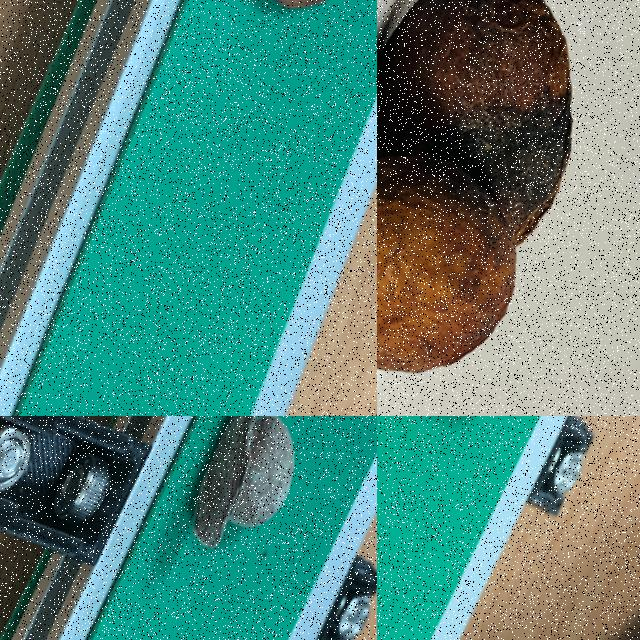Agglomerated_cocoabeans: (377, 0, 639, 415), (96, 416, 371, 639)
Fine_cocoabeans: (377, 416, 588, 507)
Flat_cocoabeans: (208, 0, 376, 101)
